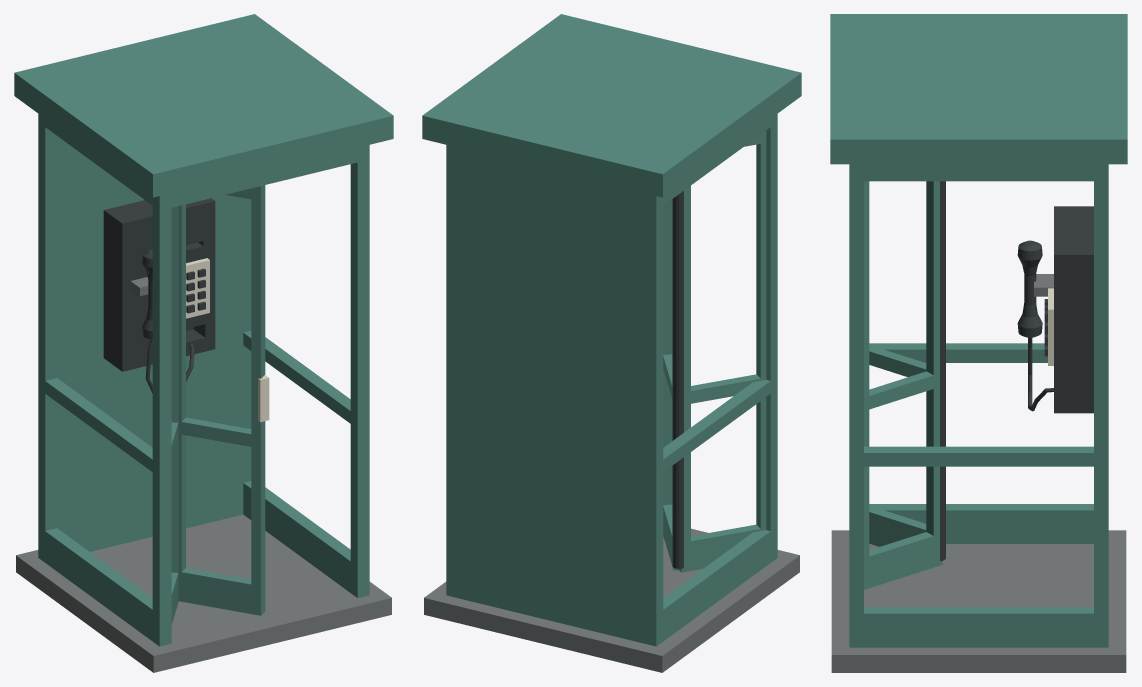
The picture shows the model from 3 angles, left to right: view 1: azimuth 30°, elevation 25°; view 2: azimuth 150°, elevation 25°; view 3: azimuth 270°, elevation 25°; orthographic projection. The views are drawn at different scales.
Parts seen in each view (by area): view 1: WholeOpenWindowAndRearWallShell, WholeFlatOverhangingRoof, WholeGroundFootFloor, WholeInwardFoldDoorLeafB, WholeWallPhoneBody, WholeInwardFoldDoorLeafA, WholeBlankKeypadSeat, WholeBridgedVerticalHandset; view 2: WholeOpenWindowAndRearWallShell, WholeFlatOverhangingRoof, WholeGroundFootFloor, WholeInwardFoldDoorLeafA, WholeFoldHinge1, WholeInwardFoldDoorLeafB; view 3: WholeFlatOverhangingRoof, WholeOpenWindowAndRearWallShell, WholeGroundFootFloor, WholeInwardFoldDoorLeafB, WholeWallPhoneBody, WholeInwardFoldDoorLeafA, WholeFoldHinge1, WholeBridgedVerticalHandset, WholeHandsetReturnCord, WholeBlankKeypadSeat.
Part boxes in pixels (<box>): WholeOpenWindowAndRearWallShell: <box>38,114,369,646</box>; WholeFlatOverhangingRoof: <box>14,14,393,197</box>; WholeGroundFootFloor: <box>16,514,391,672</box>; WholeInwardFoldDoorLeafB: <box>178,185,265,615</box>; WholeWallPhoneBody: <box>103,198,215,371</box>; WholeInwardFoldDoorLeafA: <box>171,206,178,624</box>; WholeBlankKeypadSeat: <box>186,258,209,318</box>; WholeBridgedVerticalHandset: <box>142,249,152,339</box>; WholeOpenWindowAndRearWallShell: <box>446,114,777,646</box>; WholeFlatOverhangingRoof: <box>422,14,801,197</box>; WholeGroundFootFloor: <box>424,528,799,672</box>; WholeInwardFoldDoorLeafA: <box>679,130,766,572</box>; WholeFoldHinge1: <box>672,191,683,568</box>; WholeInwardFoldDoorLeafB: <box>663,199,679,570</box>; WholeFlatOverhangingRoof: <box>830,14,1127,164</box>; WholeOpenWindowAndRearWallShell: <box>849,164,1108,647</box>; WholeGroundFootFloor: <box>831,530,1126,672</box>; WholeInwardFoldDoorLeafB: <box>864,181,942,589</box>; WholeWallPhoneBody: <box>1054,206,1093,413</box>; WholeInwardFoldDoorLeafA: <box>869,345,926,546</box>; WholeFoldHinge1: <box>940,181,945,560</box>; WholeBridgedVerticalHandset: <box>1017,240,1042,337</box>; WholeHandsetReturnCord: <box>1028,338,1053,411</box>; WholeBlankKeypadSeat: <box>1048,288,1053,365</box>.
Bounding box in the file's own units: 1.19 × 2.36 × 1.19.
